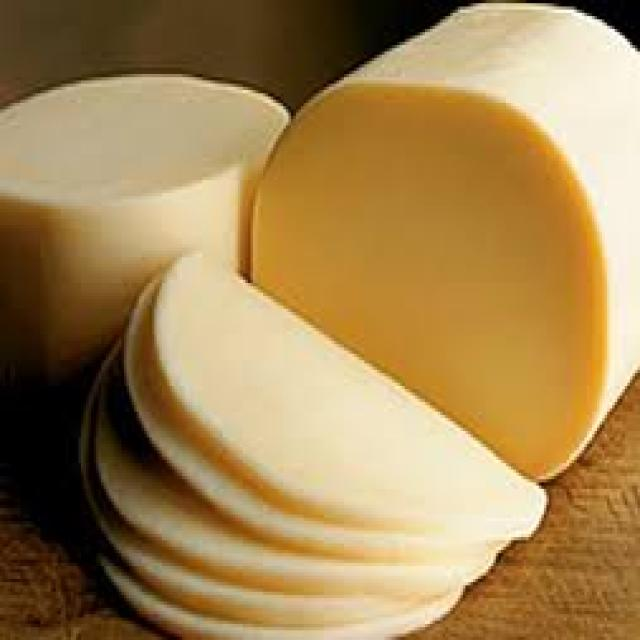cheese: (75, 248, 547, 640)
